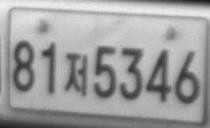1: (38, 41, 62, 94)
3: (119, 47, 143, 100)
4: (146, 48, 173, 103)
5: (91, 45, 117, 98)
6: (173, 50, 200, 104)
8: (11, 39, 35, 91)
저: (64, 52, 88, 96)
